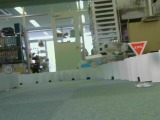speed_10: (1, 64, 14, 74)
stop: (127, 40, 148, 58)
